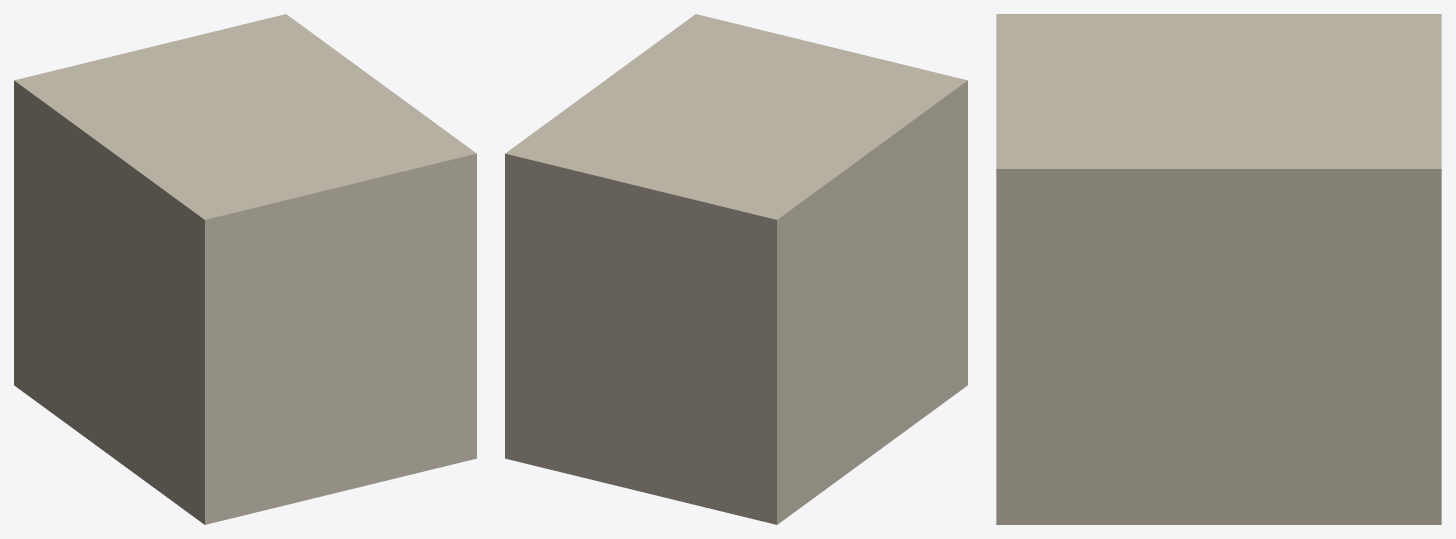
Rendered from vidaxl-outdoor-42007549-g2-proxy.glb.
3 renders of one model, left to right at view 1: azimuth 30°, elevation 25°; view 2: azimuth 150°, elevation 25°; view 3: azimuth 270°, elevation 25°, orthographic. The views are drawn at different scales.
Parts seen in each view (by area): view 1: proxy_body; view 2: proxy_body; view 3: proxy_body.
Part boxes in pixels (x1,y1,x2,y2): proxy_body: (14,14,476,524); proxy_body: (505,14,967,524); proxy_body: (996,14,1441,524).
Size of the model in its own units: 0.7 by 0.75 by 0.85.
